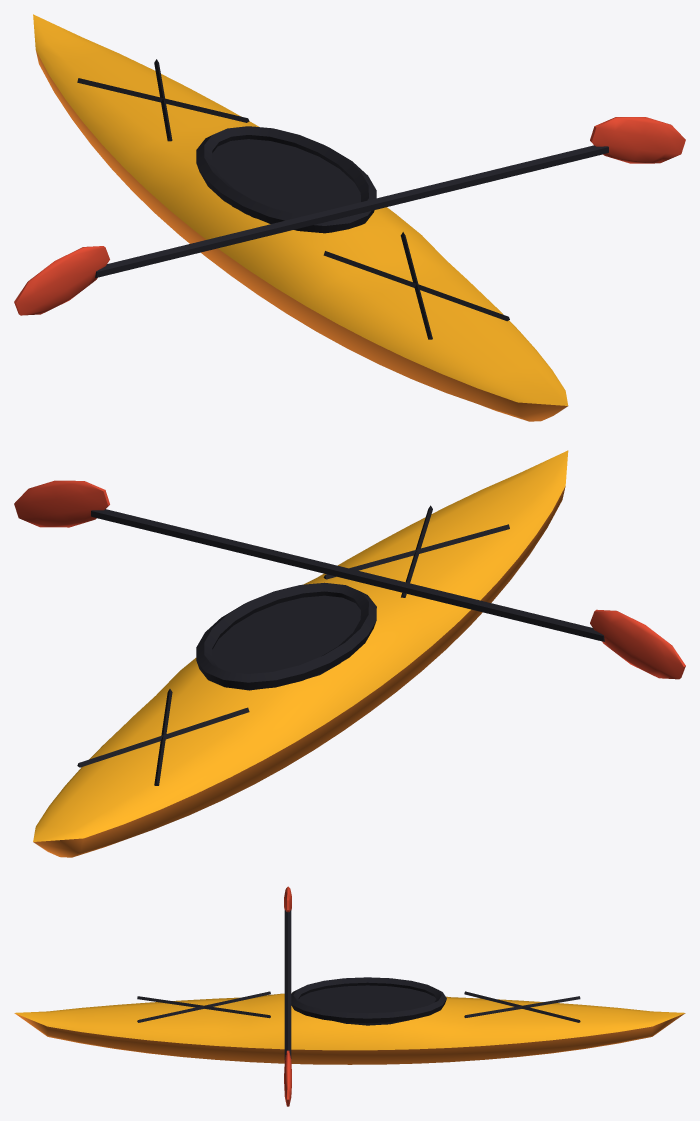
File: kayak.glb
The picture shows the model from 3 angles, top to bottom: view 1: azimuth 30°, elevation 25°; view 2: azimuth 150°, elevation 25°; view 3: azimuth 270°, elevation 25°; orthographic projection. The views are drawn at different scales.
Visible parts, largest first — view 1: kayak; view 2: kayak; view 3: kayak.
Boxes of the visible parts, <box> form: kayak: <box>14,14,685,421</box>; kayak: <box>14,450,685,857</box>; kayak: <box>14,886,685,1106</box>.
Size of the model in its own units: 2.75 by 0.5097 by 3.8.
